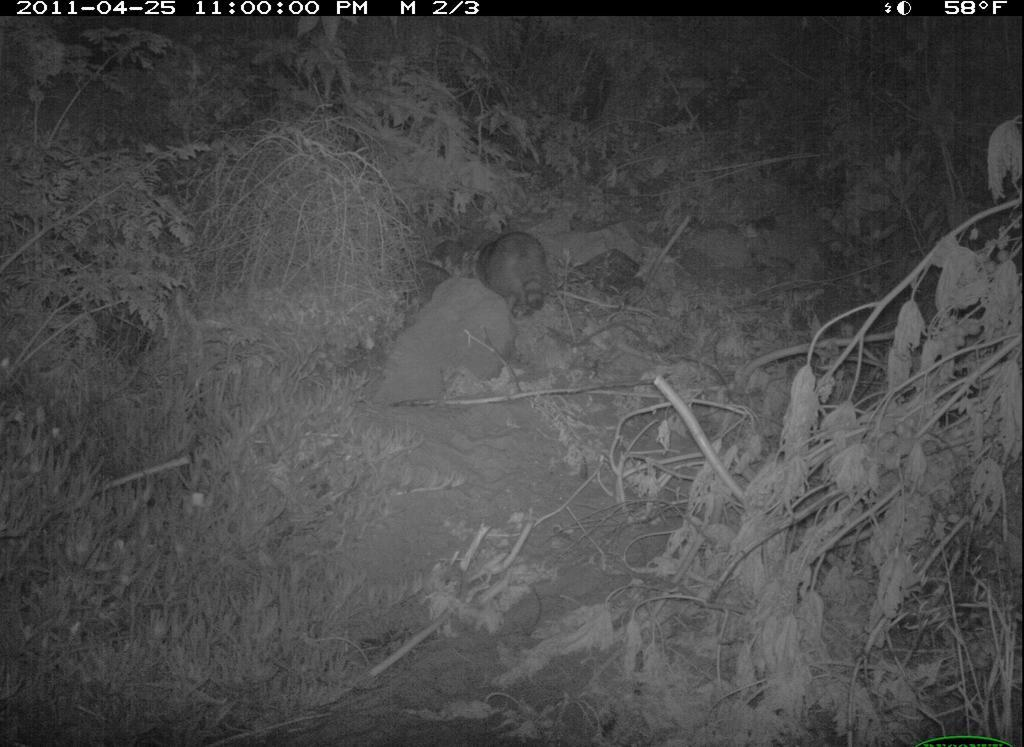raccoon: (463, 223, 565, 317)
